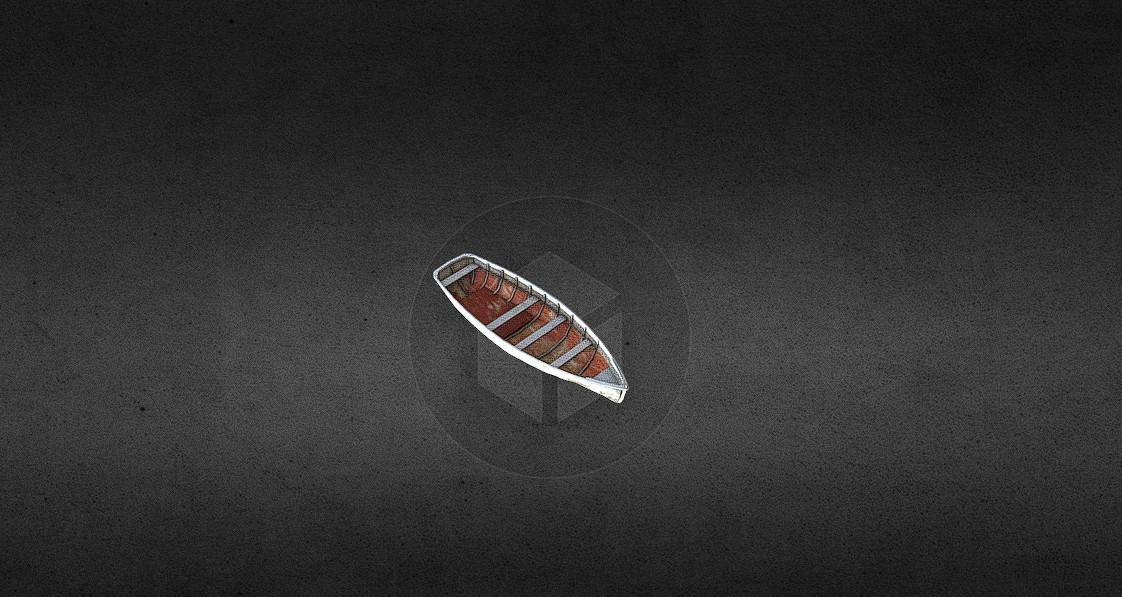Boat: (432, 251, 628, 407)
